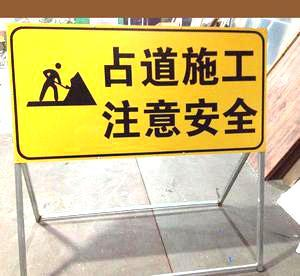sign: (8, 23, 264, 153)
